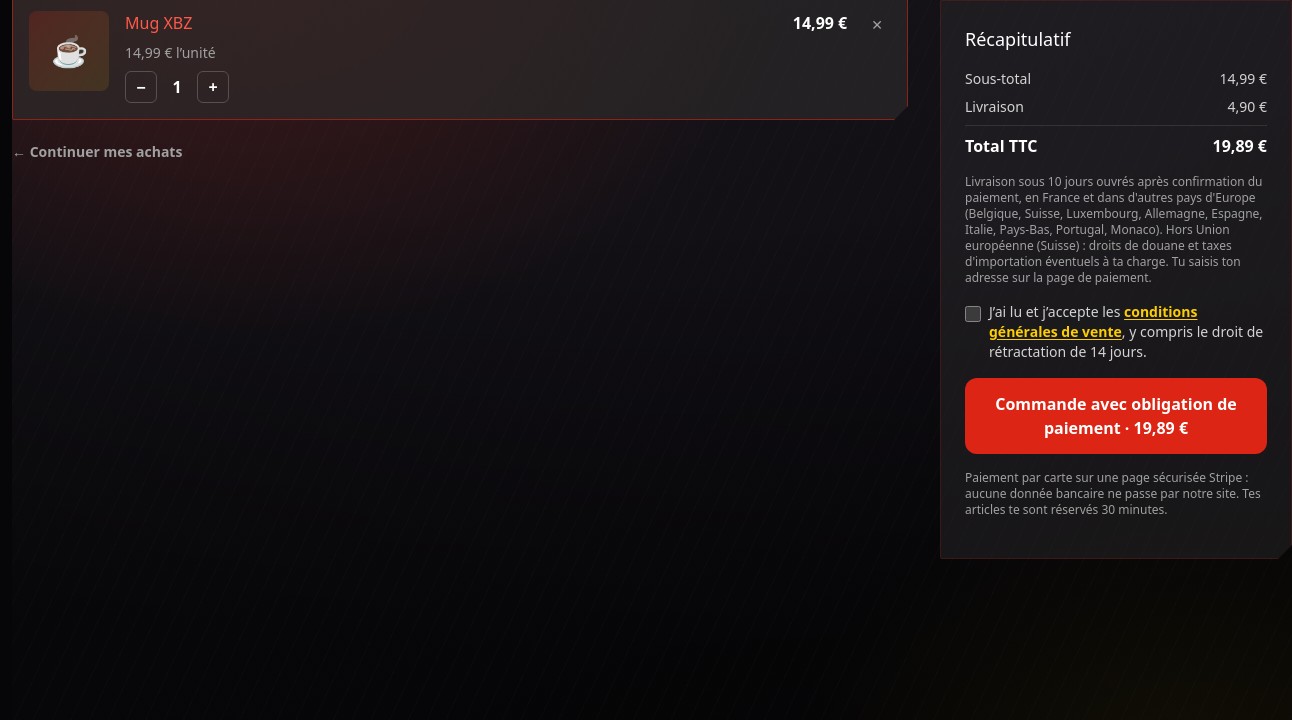
Scenario: CartView › CGV obligatoires avant de payer
Step 1. Click the button "Commande avec obligation de paiement · 19,89 €" → [1116, 416], box [965, 378, 1267, 454]
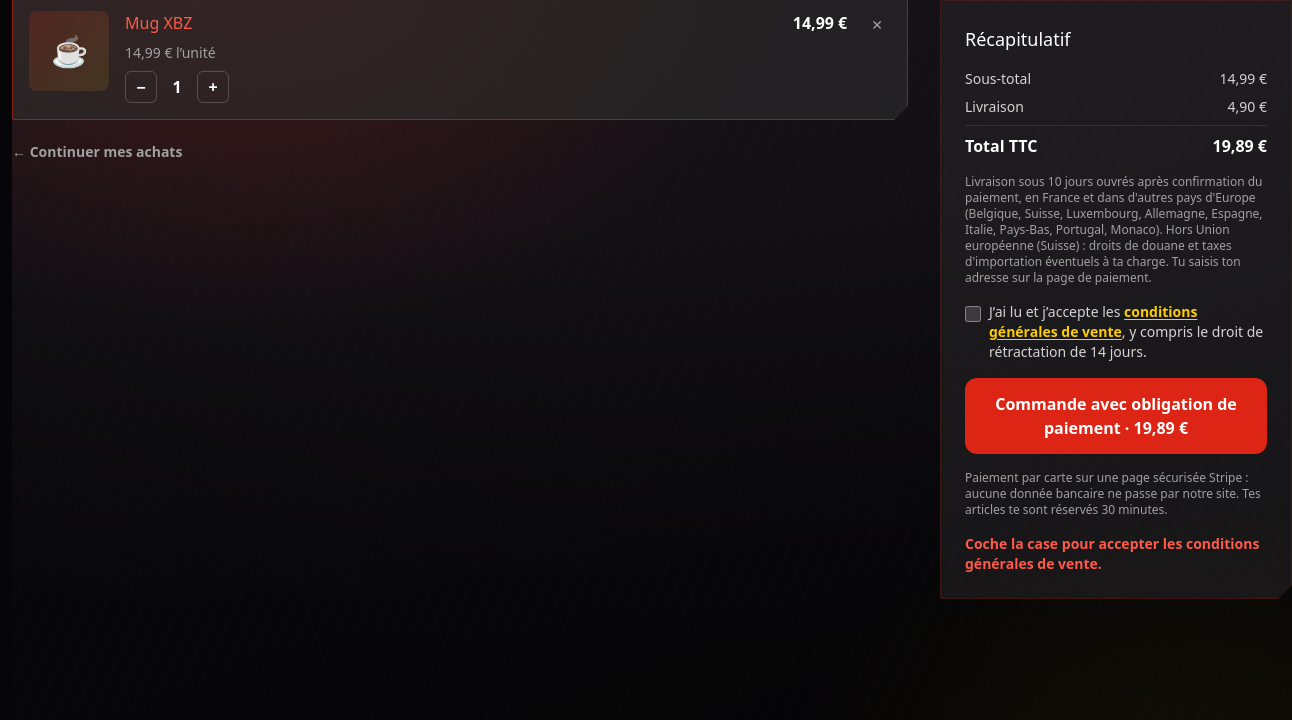
Check: the text "Coche la case pour accepter les conditions générales de vente." is shown, box [965, 534, 1267, 574]
